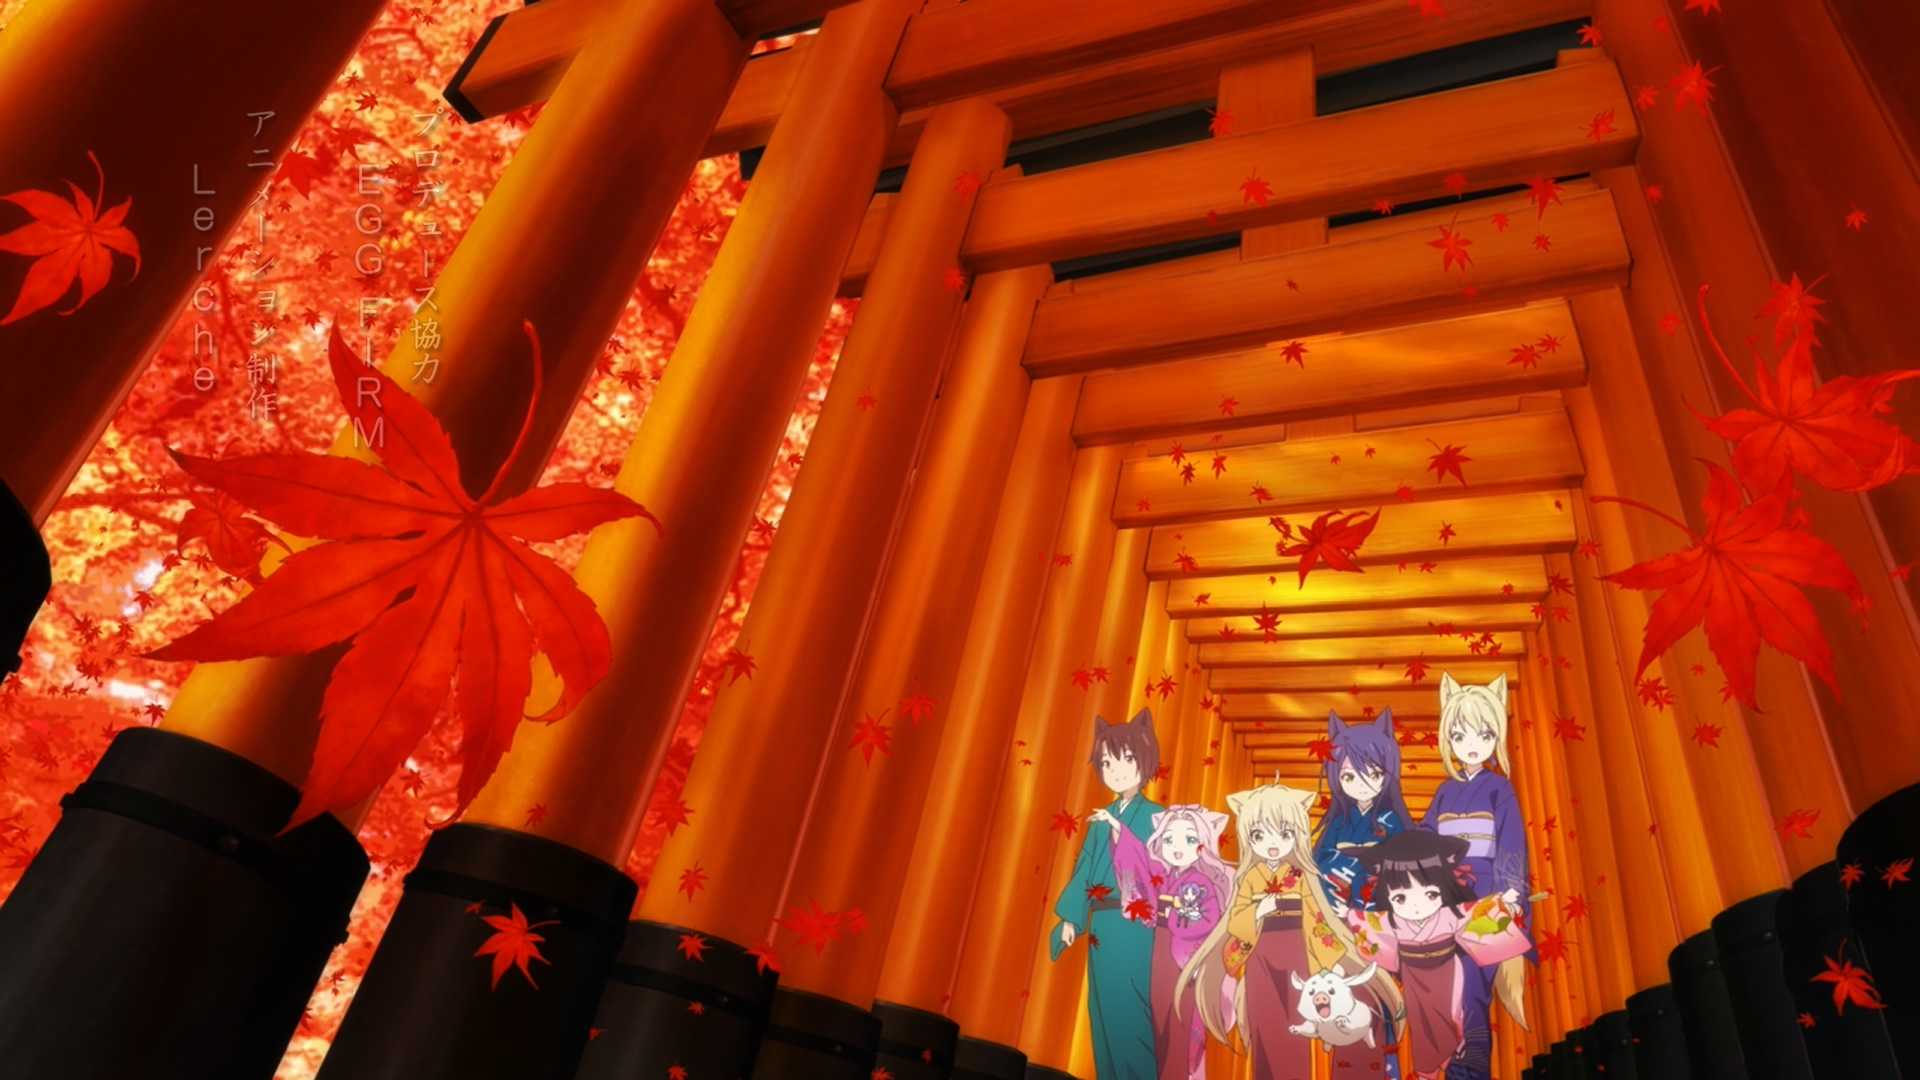枣: (1050, 709, 1167, 1080)
柚: (1175, 767, 1404, 1080)
桐: (1422, 673, 1540, 1080)
樱: (1335, 829, 1532, 1080)
瓜之介: (1287, 961, 1408, 1052)
皋: (1311, 709, 1416, 1080)
莲: (1087, 804, 1240, 1080)
